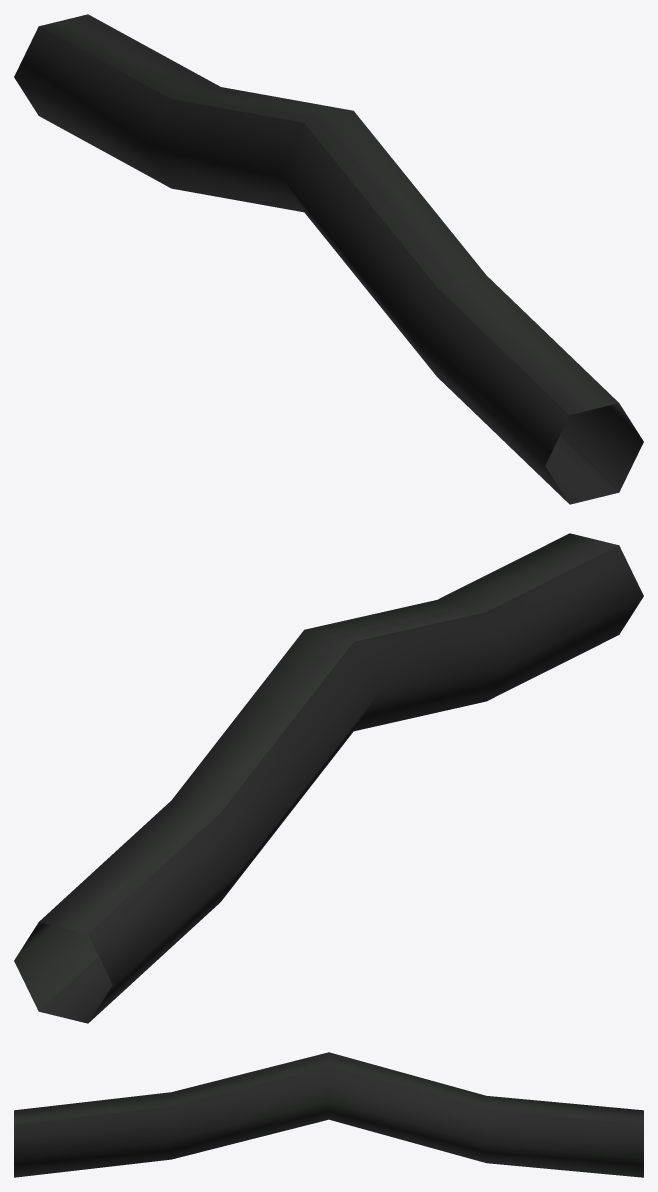
The model's file is electrical_overlap_tiny.dae.
3 views of the same model, one above another, from view 1: azimuth 30°, elevation 25°; view 2: azimuth 150°, elevation 25°; view 3: azimuth 270°, elevation 25° (orthographic). The views are drawn at different scales.
Parts seen in each view (by area): view 1: Mesh; view 2: Mesh; view 3: Mesh.
Part boxes in pixels (x1=…): Mesh: x1=14, y1=14, x2=643, y2=504; Mesh: x1=14, y1=533, x2=643, y2=1023; Mesh: x1=14, y1=1052, x2=643, y2=1177.
Bounding box in the file's own units: 0.0169 × 0.0306 × 0.1573.
